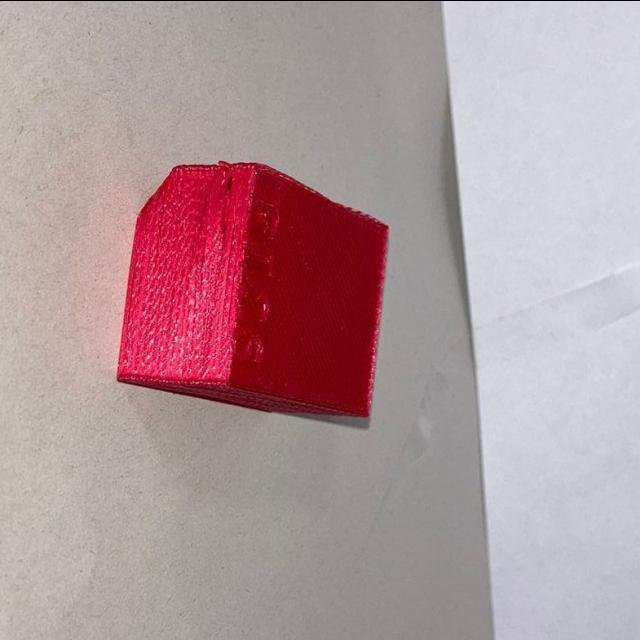Warping: (140, 162, 177, 228)
